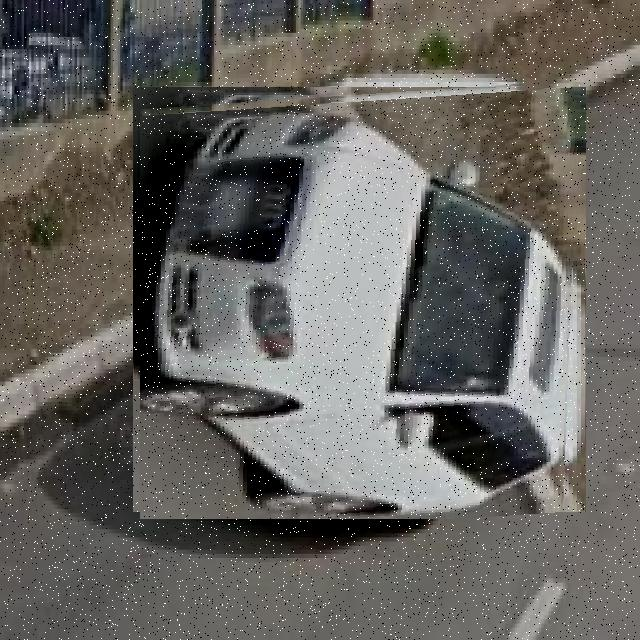car: (141, 81, 580, 520)
